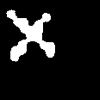single_crochet: (7, 10, 54, 60)
